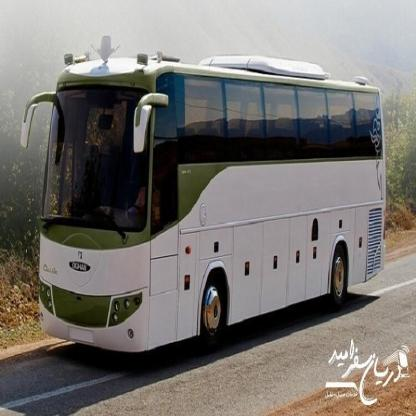Bus: (20, 41, 388, 366)
